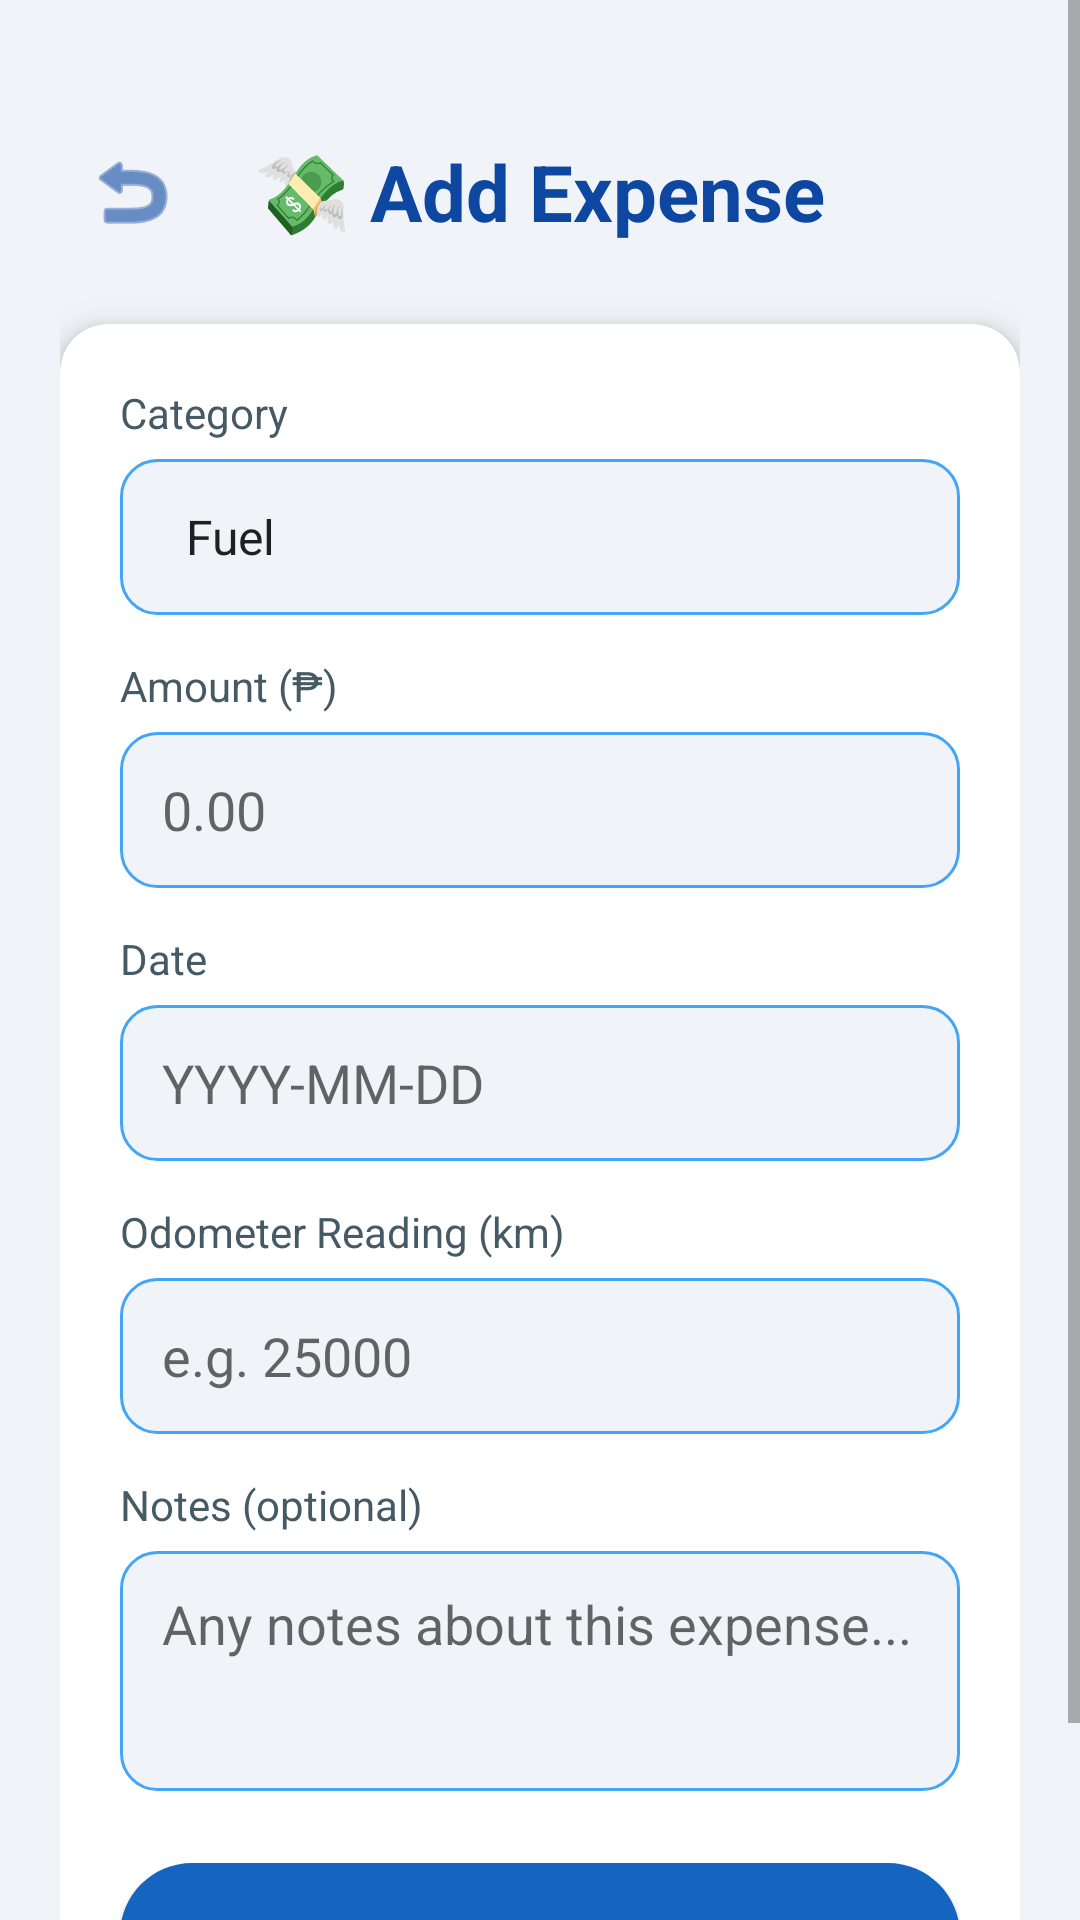

Screen size 1080×1920. Icon name, then its box in pixels as (x1=x1, y1=y1, x2=x2, y2=y2):
Back: (x1=99, y1=161, x2=168, y2=224)
